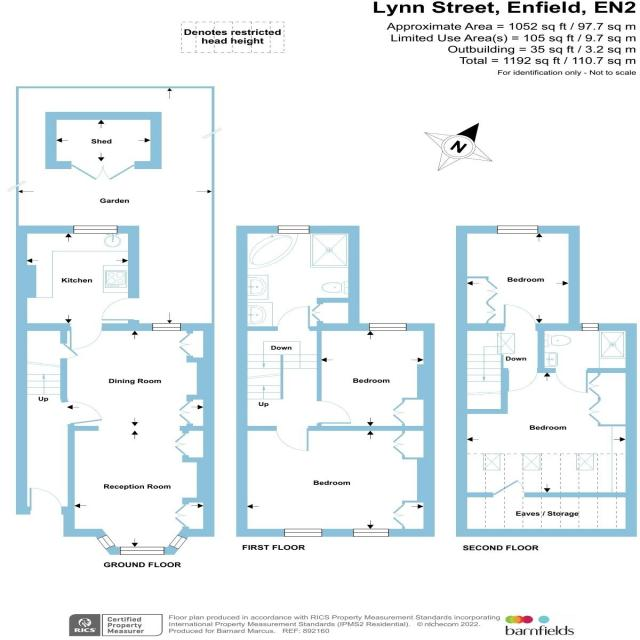DOOR: (61, 401, 104, 425), (69, 323, 103, 351), (502, 304, 537, 331), (101, 297, 140, 321), (29, 487, 63, 514), (554, 368, 589, 394), (275, 426, 310, 452), (276, 305, 311, 331), (317, 400, 352, 424), (506, 368, 539, 392)
ROOM: (60, 323, 215, 555), (456, 368, 637, 497), (236, 426, 435, 537), (16, 226, 140, 352), (456, 225, 580, 331), (317, 323, 435, 431)
WINDOW: (119, 546, 165, 555), (73, 225, 118, 234), (496, 225, 540, 234), (282, 528, 323, 537), (352, 528, 390, 537), (96, 534, 117, 550), (168, 534, 188, 550), (369, 323, 407, 331), (277, 225, 310, 234), (152, 323, 181, 331), (581, 323, 599, 331)
